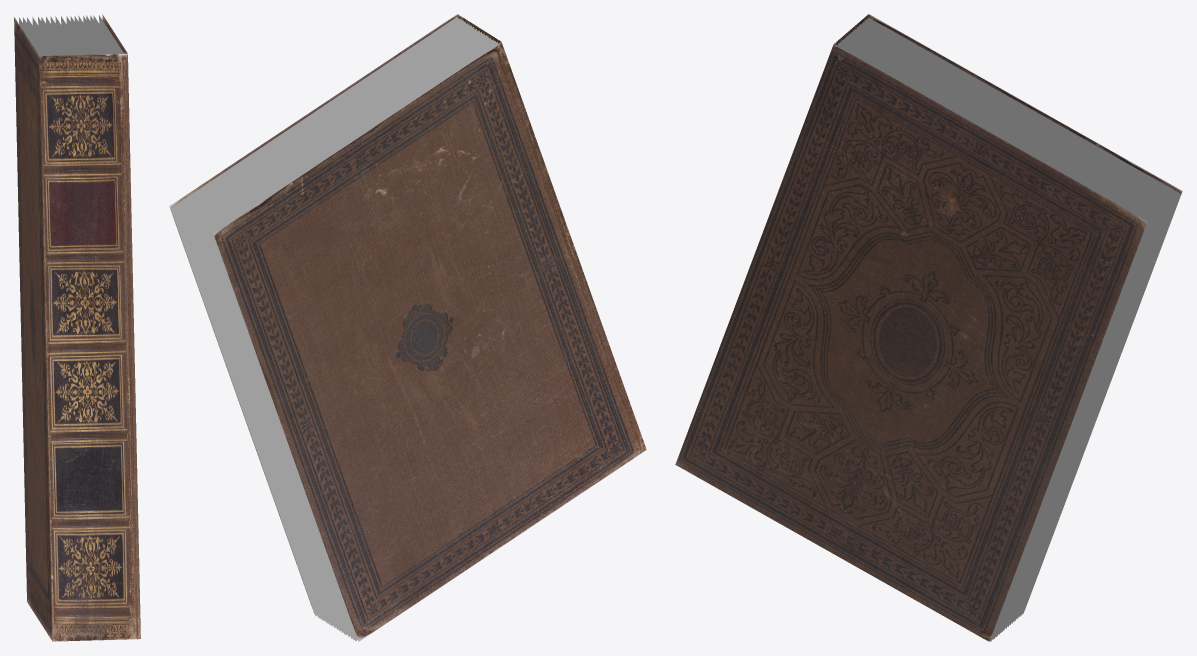
The model's file is book.gltf.
The picture shows the model from 3 angles, left to right: view 1: azimuth 30°, elevation 25°; view 2: azimuth 150°, elevation 25°; view 3: azimuth 270°, elevation 25°; orthographic projection. The views are drawn at different scales.
Visible parts, largest first — view 1: sites, Plane.019; view 2: sites, Plane.019; view 3: sites, Plane.019.
Boxes of the visible parts, x1=… form: sites: x1=14, y1=14, x2=140, y2=641; Plane.019: x1=19, y1=15, x2=123, y2=640; sites: x1=169, y1=14, x2=646, y2=641; Plane.019: x1=170, y1=17, x2=497, y2=641; sites: x1=675, y1=14, x2=1182, y2=641; Plane.019: x1=836, y1=17, x2=1181, y2=641.
Size of the model in its own units: 1.15 by 2.36 by 1.91.
2 materials, 1 textured.
